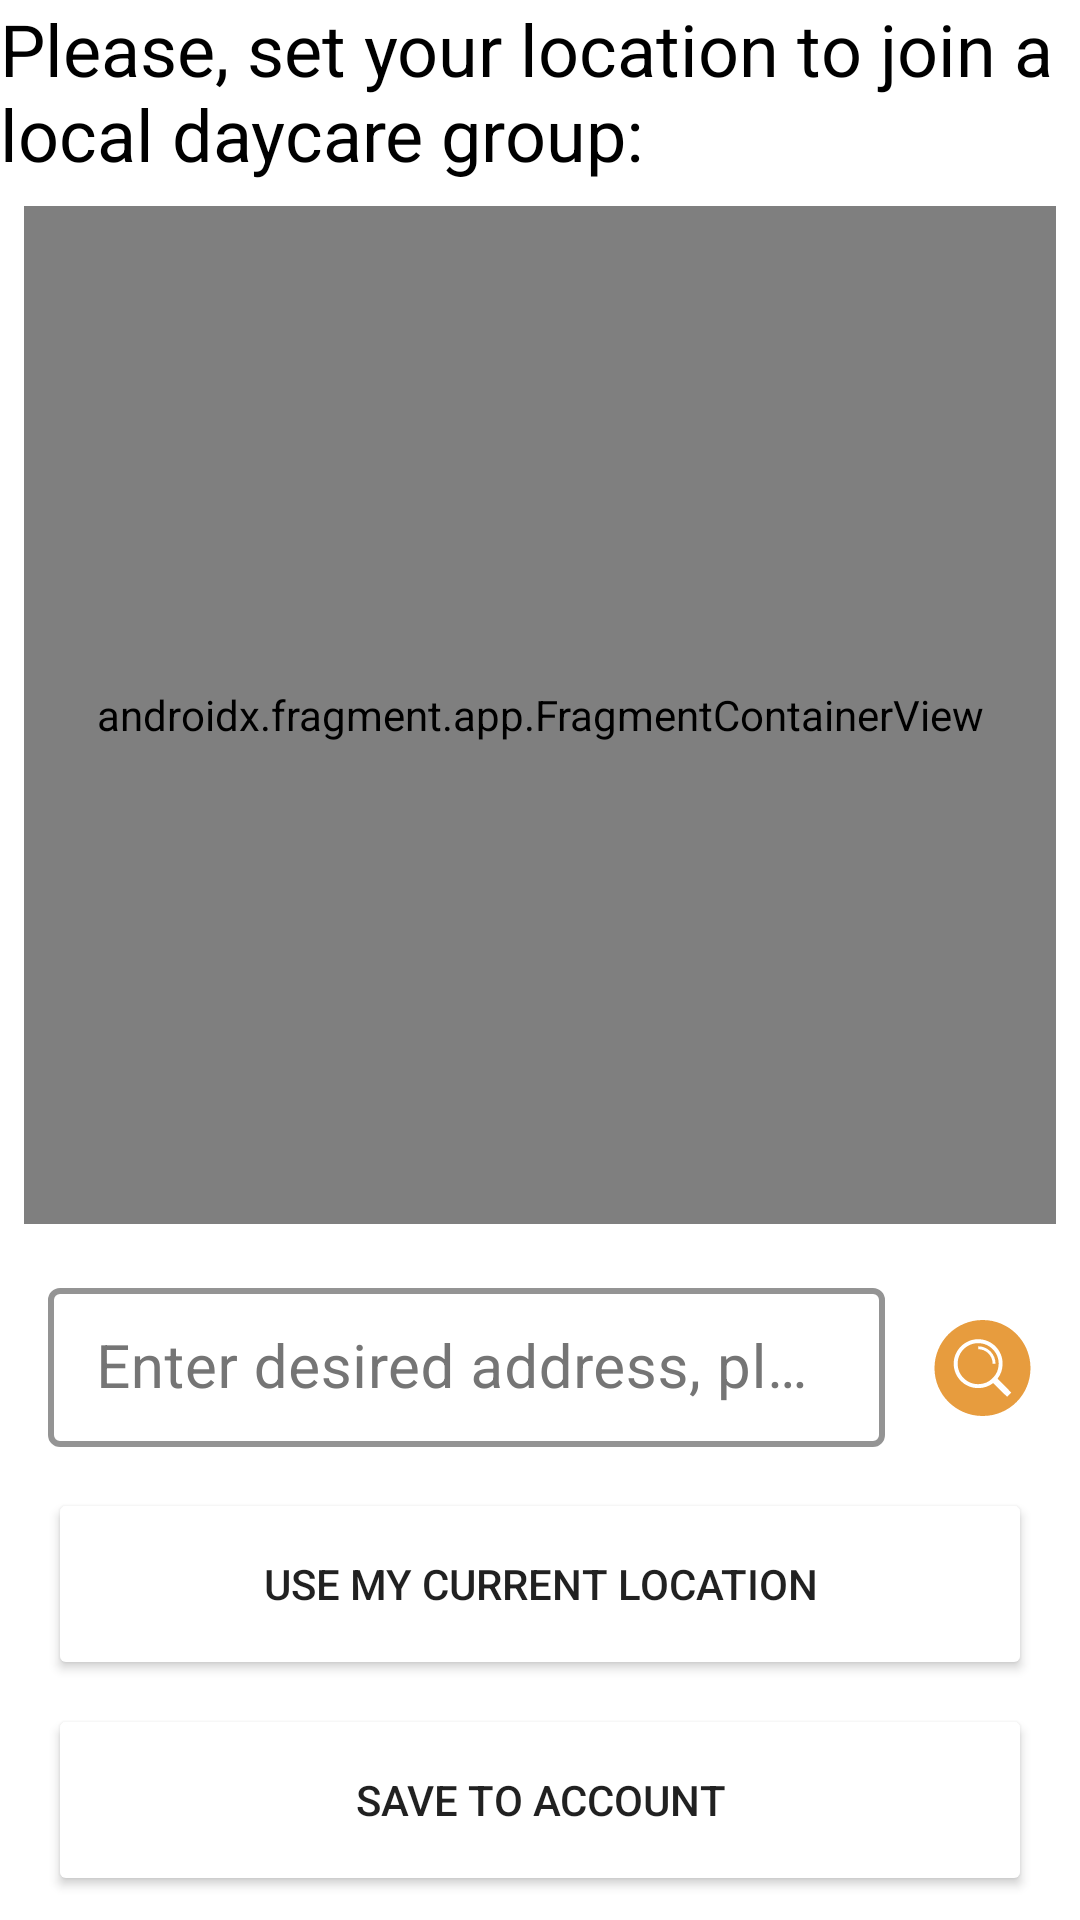

Screen size 1080px×1920px. Icon name, then its box in pixels as bbox=[x1, y1, x2, y2]:
find: bbox=[934, 1320, 1031, 1416]
